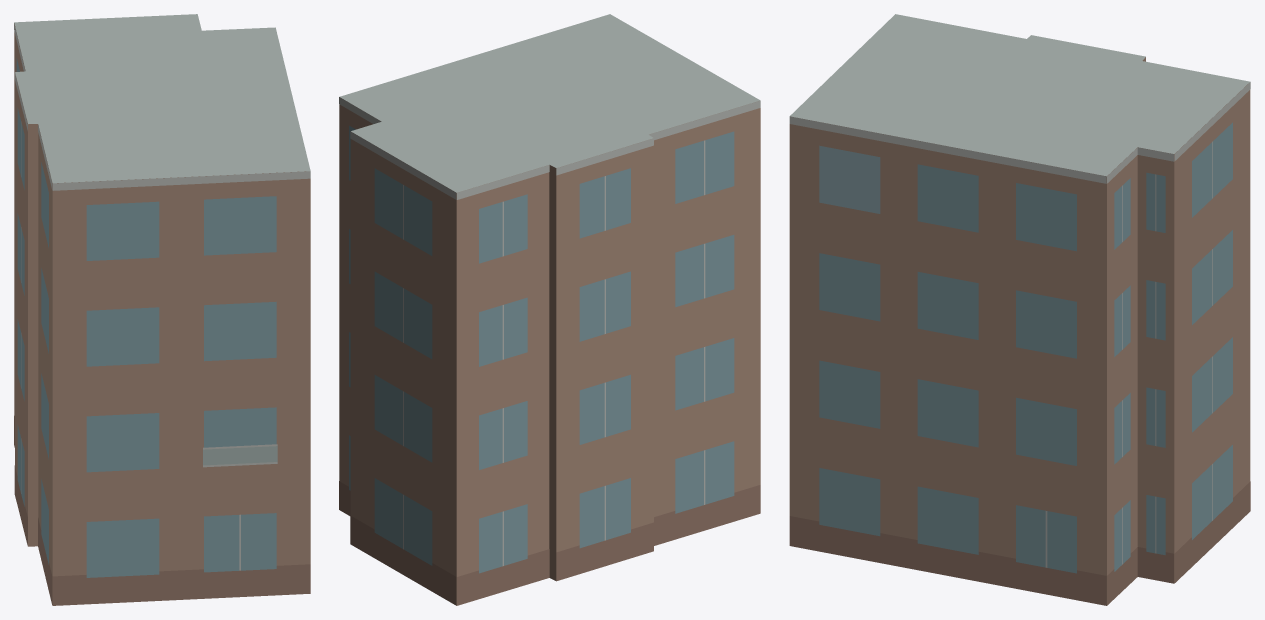
The model's file is survey-upis-32669291.glb.
3 renders of one model, left to right at view 1: azimuth 30°, elevation 25°; view 2: azimuth 150°, elevation 25°; view 3: azimuth 270°, elevation 25°, orthographic. The views are drawn at different scales.
Visible parts, largest first — view 1: survey-upis-32669291.tmp; view 2: survey-upis-32669291.tmp; view 3: survey-upis-32669291.tmp.
Boxes of the visible parts, <box> form: survey-upis-32669291.tmp: <box>14,14,310,605</box>; survey-upis-32669291.tmp: <box>339,14,760,605</box>; survey-upis-32669291.tmp: <box>789,14,1250,605</box>.
Bounding box in the file's own units: 11.11 × 13.7 × 13.33.
